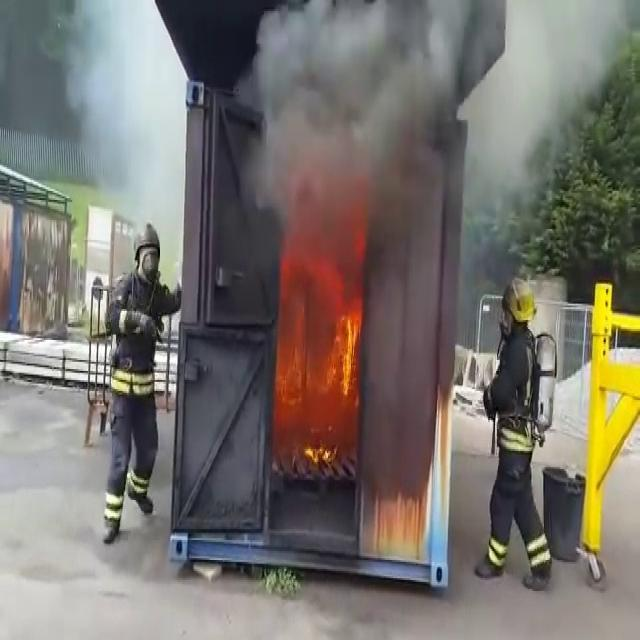Fire: (294, 221, 358, 467)
Smoke: (272, 0, 532, 205)
